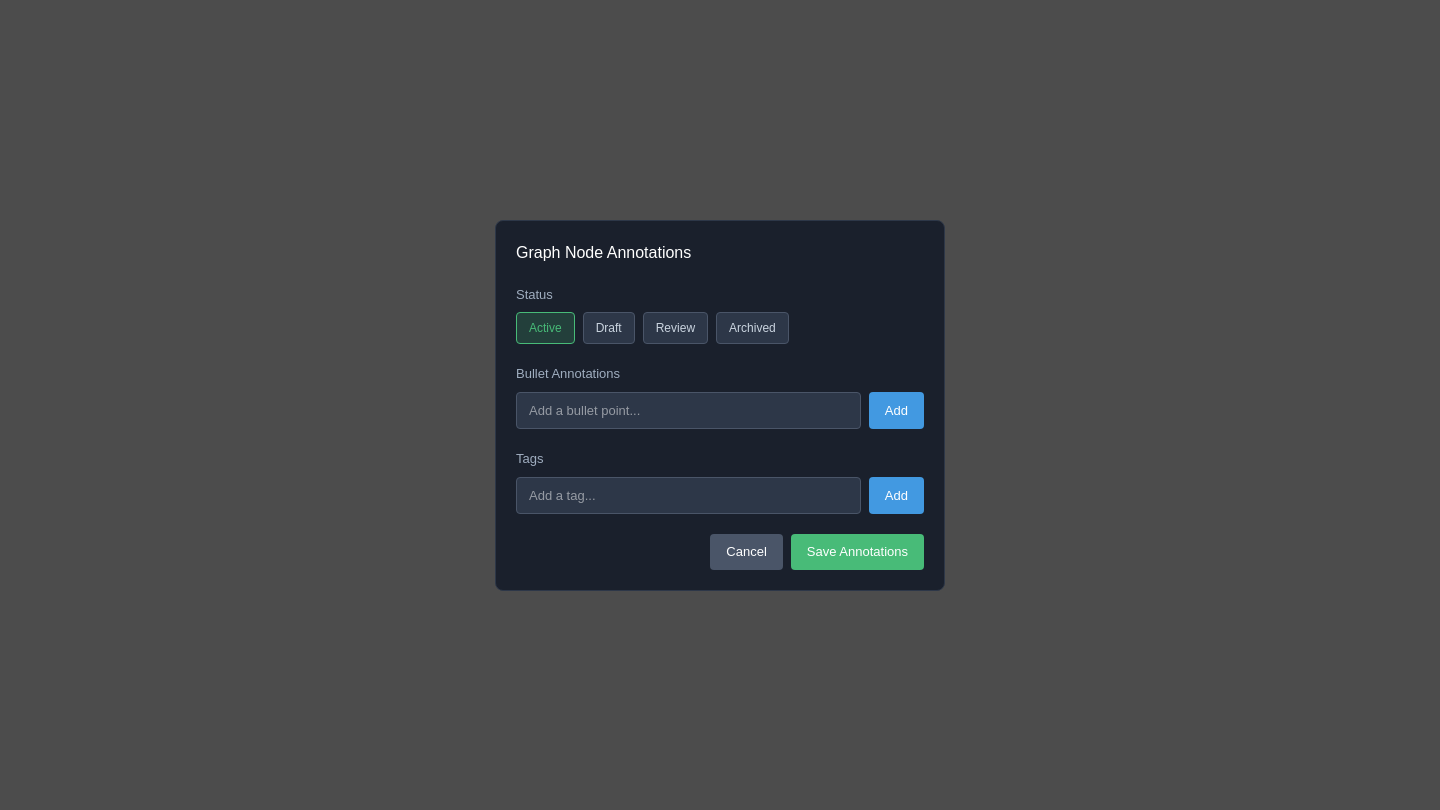
GraphAnnotation › adds bullet annotation
The width and height of the screenshot is (1440, 810).
Type "New bullet point" into the field with placeholder "Add a bullet point..." at (688, 410), box [516,392,861,429]
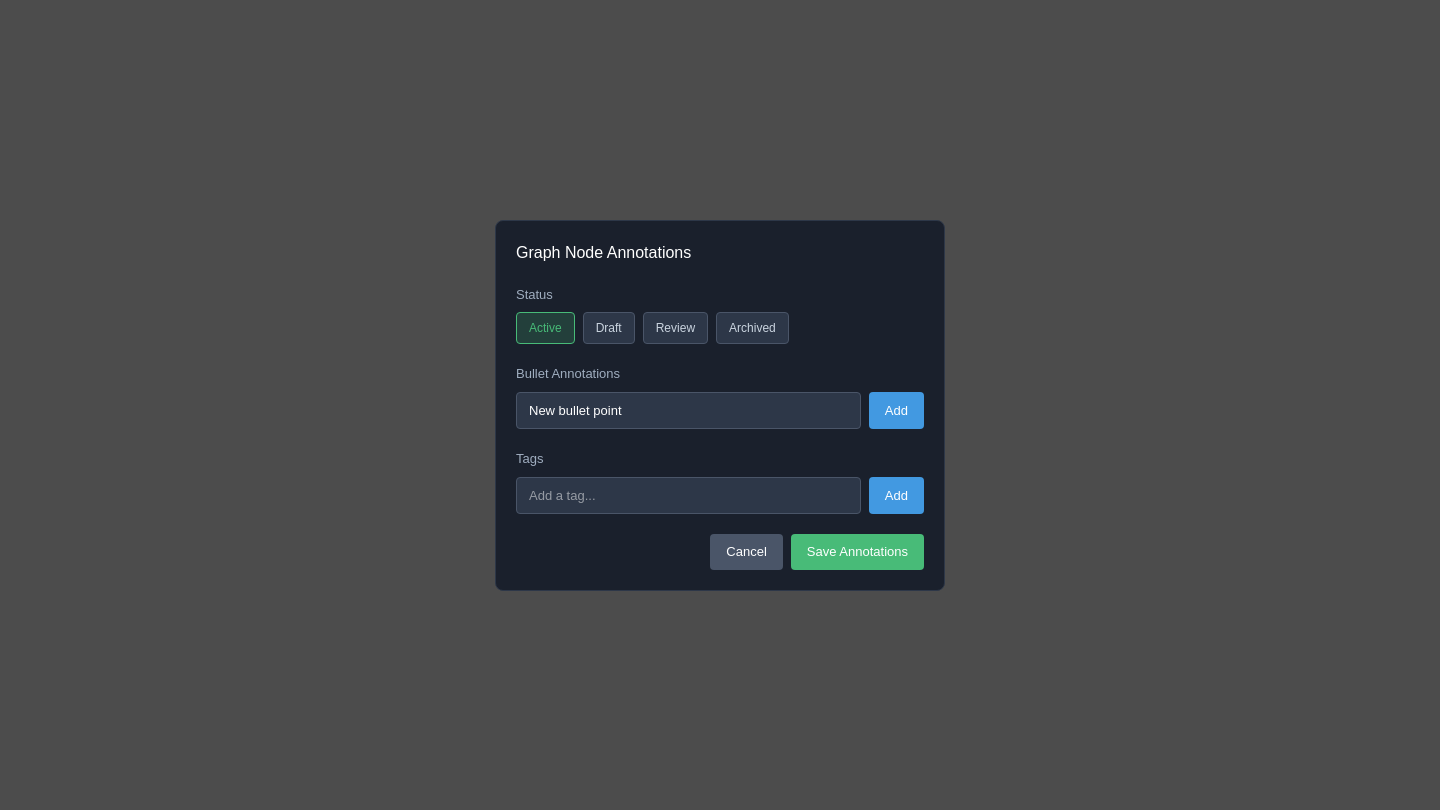
Click the button "Add" below "Bullet Annotations" at (896, 410), box [869,392,924,429]
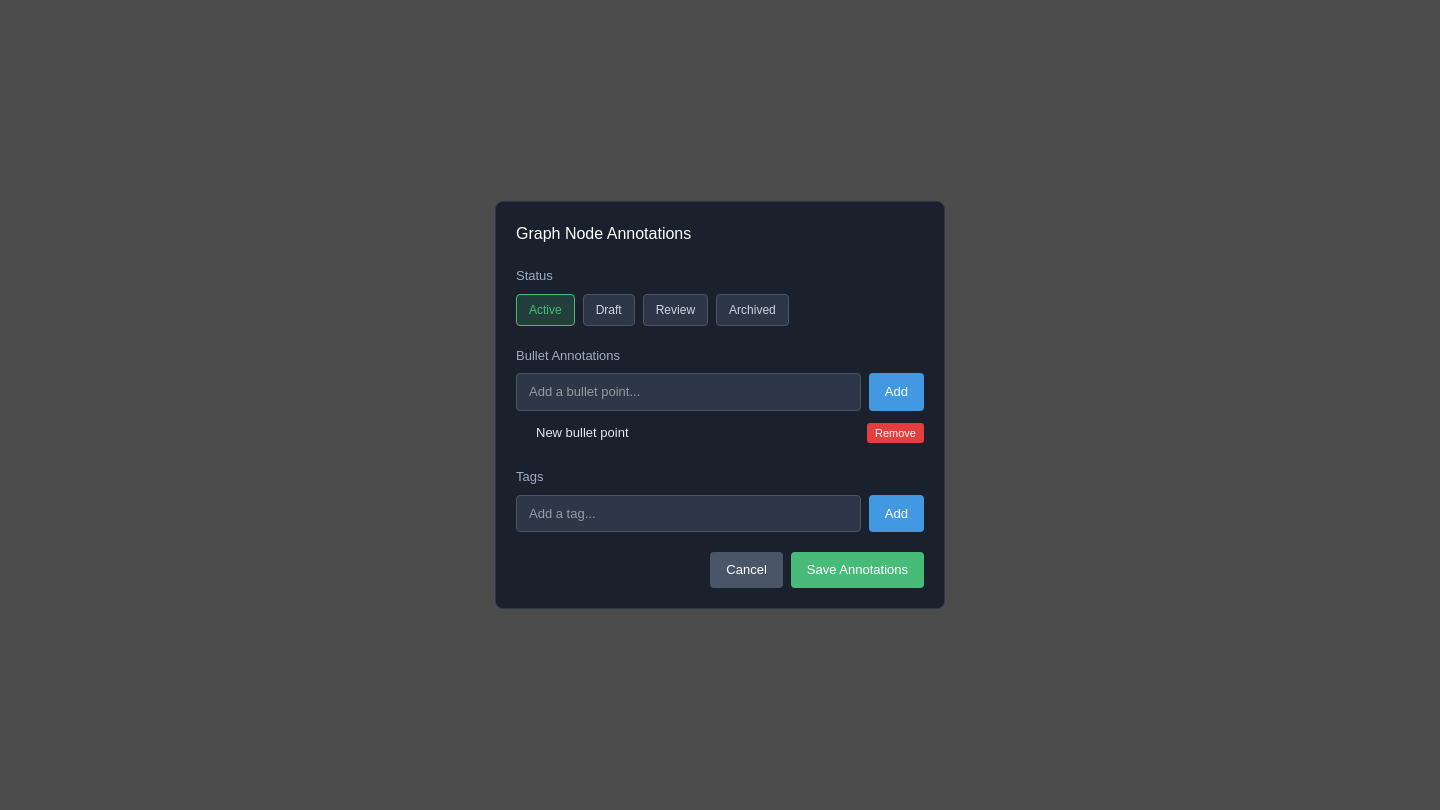
Expected: the text "New bullet point" is shown, [536,425,628,440]
